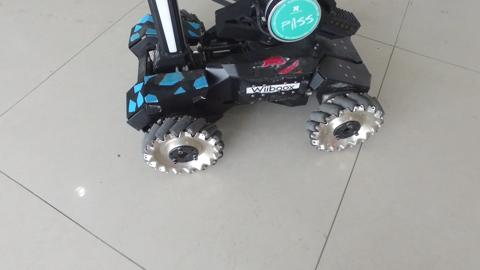chariot: (108, 11, 384, 168)
